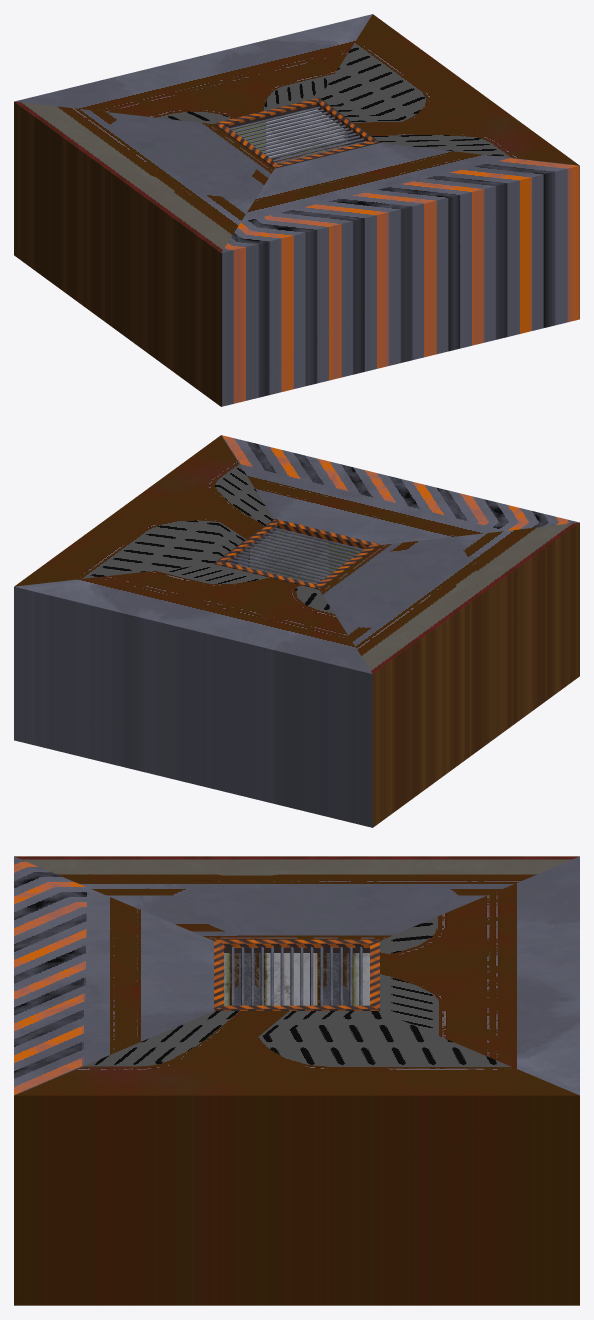
Rendered from Level 1.glb.
The picture shows the model from 3 angles, top to bottom: view 1: azimuth 30°, elevation 25°; view 2: azimuth 150°, elevation 25°; view 3: azimuth 270°, elevation 25°; orthographic projection. The views are drawn at different scales.
Parts seen in each view (by area): view 1: Room, Venting, Overlay; view 2: Room, Venting, Overlay; view 3: Room, Venting, Pillars, Overlay.
Boxes of the visible parts, bbox=[...] form: Room: bbox=[14, 14, 579, 406]; Venting: bbox=[214, 97, 379, 168]; Overlay: bbox=[232, 112, 360, 161]; Room: bbox=[14, 435, 579, 827]; Venting: bbox=[214, 518, 379, 589]; Overlay: bbox=[250, 530, 361, 583]; Room: bbox=[14, 856, 579, 1305]; Venting: bbox=[214, 939, 379, 1010]; Pillars: bbox=[229, 953, 353, 1005]; Overlay: bbox=[224, 953, 369, 1005].
Size of the model in its own units: 31.74 by 13.08 by 31.74.
Materials: 7 (6 with a texture image).
